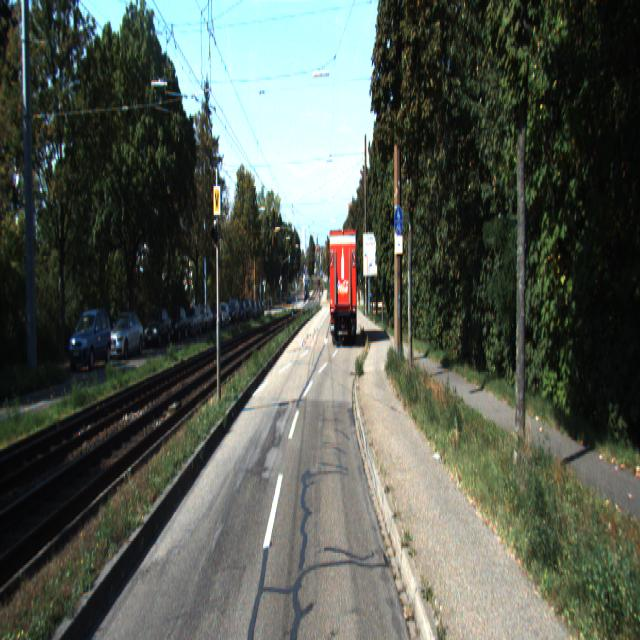Car: (68, 310, 114, 375), (104, 310, 144, 360), (142, 309, 172, 352), (165, 305, 187, 343), (182, 305, 201, 337), (208, 302, 223, 332)
DontCare: (222, 295, 265, 331)
Truck: (327, 226, 358, 348)
